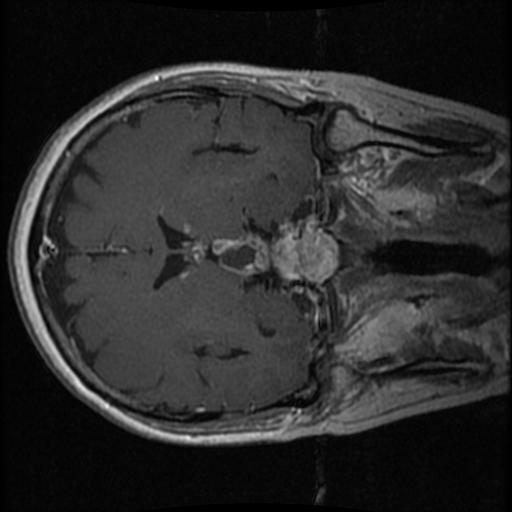pituitary tumour: (213, 226, 301, 278)
